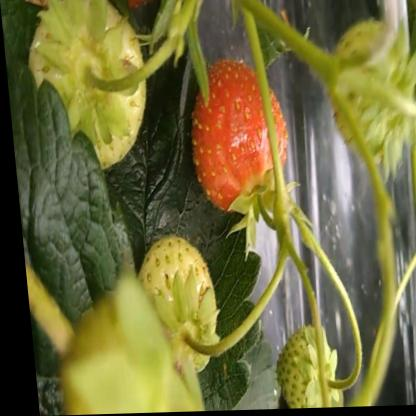ripe: (183, 57, 286, 208)
unripe: (20, 0, 155, 173), (125, 232, 217, 379), (322, 18, 407, 163), (265, 324, 333, 410)
